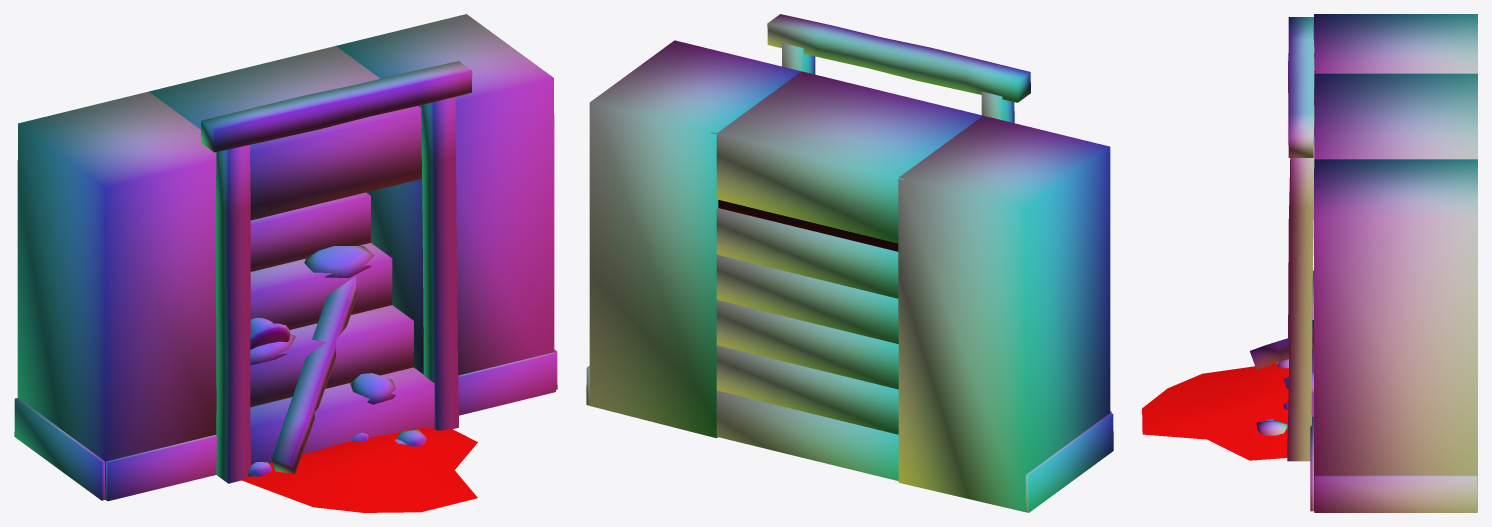
File: SM_Pit_AshSteps_LOD1.fbx
The picture shows the model from 3 angles, left to right: view 1: azimuth 30°, elevation 25°; view 2: azimuth 150°, elevation 25°; view 3: azimuth 270°, elevation 25°; orthographic projection. The views are drawn at different scales.
Visible parts, largest first — view 1: SM_Pit_AshSteps_LOD1; view 2: SM_Pit_AshSteps_LOD1; view 3: SM_Pit_AshSteps_LOD1.
Boxes of the visible parts, x1=… form: SM_Pit_AshSteps_LOD1: x1=14, y1=14, x2=557, y2=512; SM_Pit_AshSteps_LOD1: x1=586, y1=14, x2=1113, y2=512; SM_Pit_AshSteps_LOD1: x1=1142, y1=14, x2=1477, y2=512.
Size of the model in its own units: 3.07 by 2.33 by 2.09.
